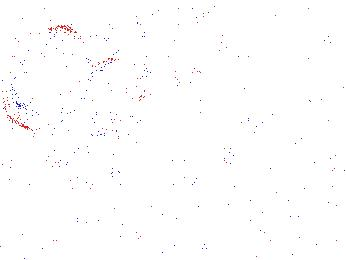moon jellyfish: (3, 26, 88, 129), (116, 10, 222, 90), (77, 59, 147, 137), (52, 122, 114, 186)
